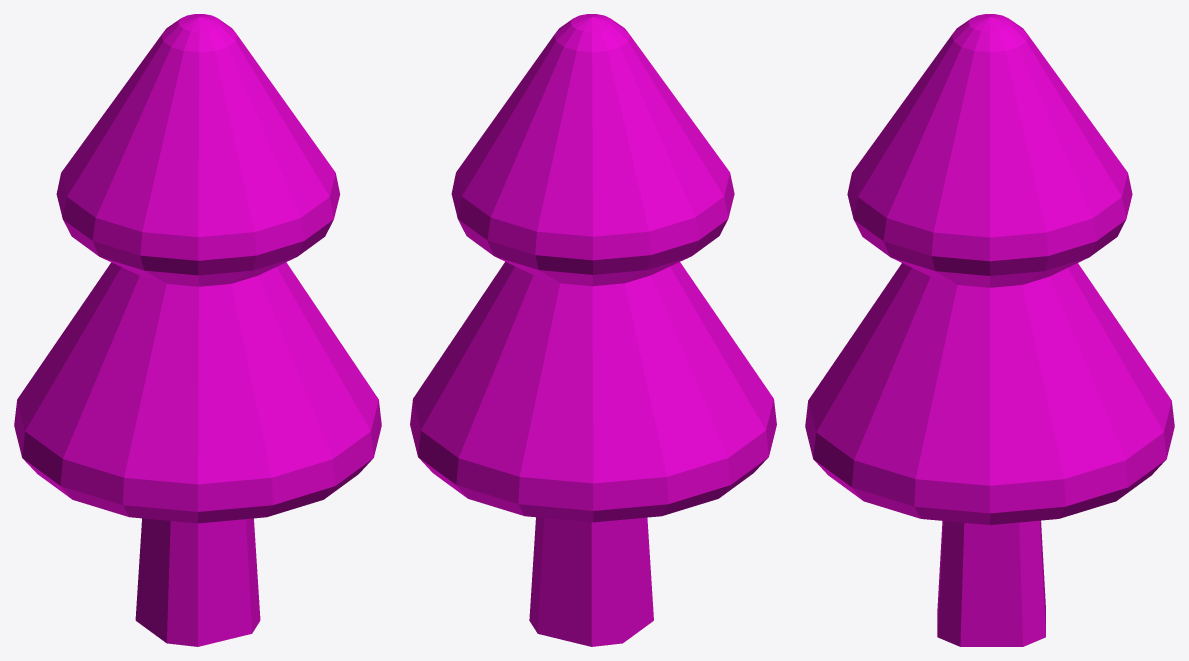
File: Pine 1.fbx
3 renders of one model, left to right at view 1: azimuth 30°, elevation 25°; view 2: azimuth 150°, elevation 25°; view 3: azimuth 270°, elevation 25°, orthographic.
Visible parts, largest first — view 1: Bush, Trunk; view 2: Bush, Trunk; view 3: Bush, Trunk.
Part boxes in pixels (bbox=[...]): Bush: bbox=[14, 14, 381, 523]; Trunk: bbox=[135, 518, 260, 646]; Bush: bbox=[410, 14, 776, 522]; Trunk: bbox=[529, 517, 653, 646]; Bush: bbox=[805, 14, 1174, 524]; Trunk: bbox=[937, 520, 1045, 646].
Bounding box in the file's own units: 4.07 × 7.42 × 4.1.
